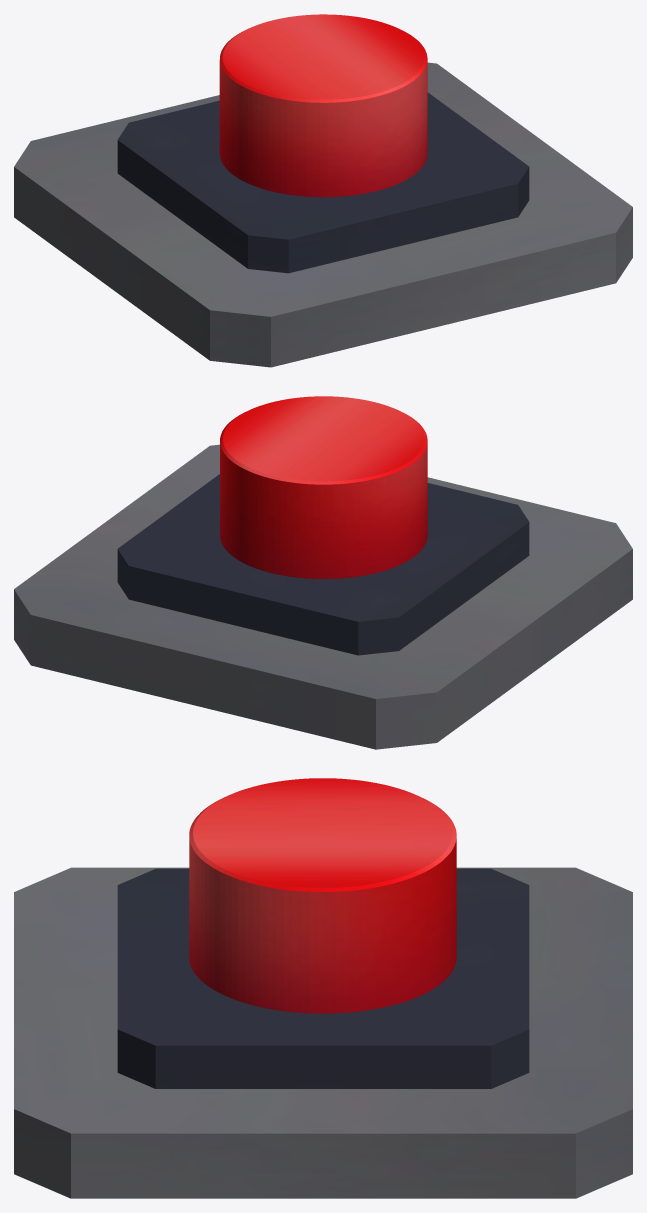
File: eject_button_item_-_dandys_world.glb
3 renders of one model, top to bottom at view 1: azimuth 30°, elevation 25°; view 2: azimuth 150°, elevation 25°; view 3: azimuth 270°, elevation 25°, orthographic. The views are drawn at different scales.
Visible parts, largest first — view 1: Object_2; view 2: Object_2; view 3: Object_2.
Part boxes in pixels (x1,y1,x2,y2): Object_2: [14, 14, 632, 367]; Object_2: [14, 396, 632, 749]; Object_2: [14, 778, 632, 1198].
Size of the model in its own units: 1.4 by 0.5711 by 1.38.
1 material, 1 textured.
